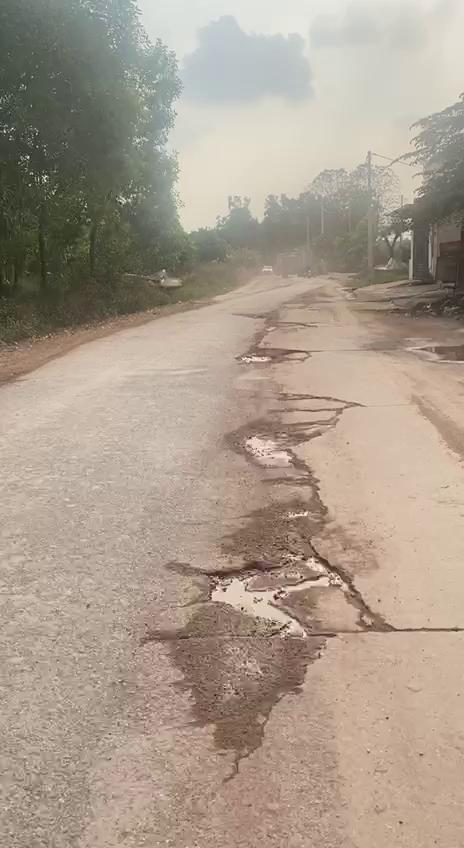pothole: (196, 538, 366, 648), (230, 415, 330, 475), (235, 347, 315, 368)
